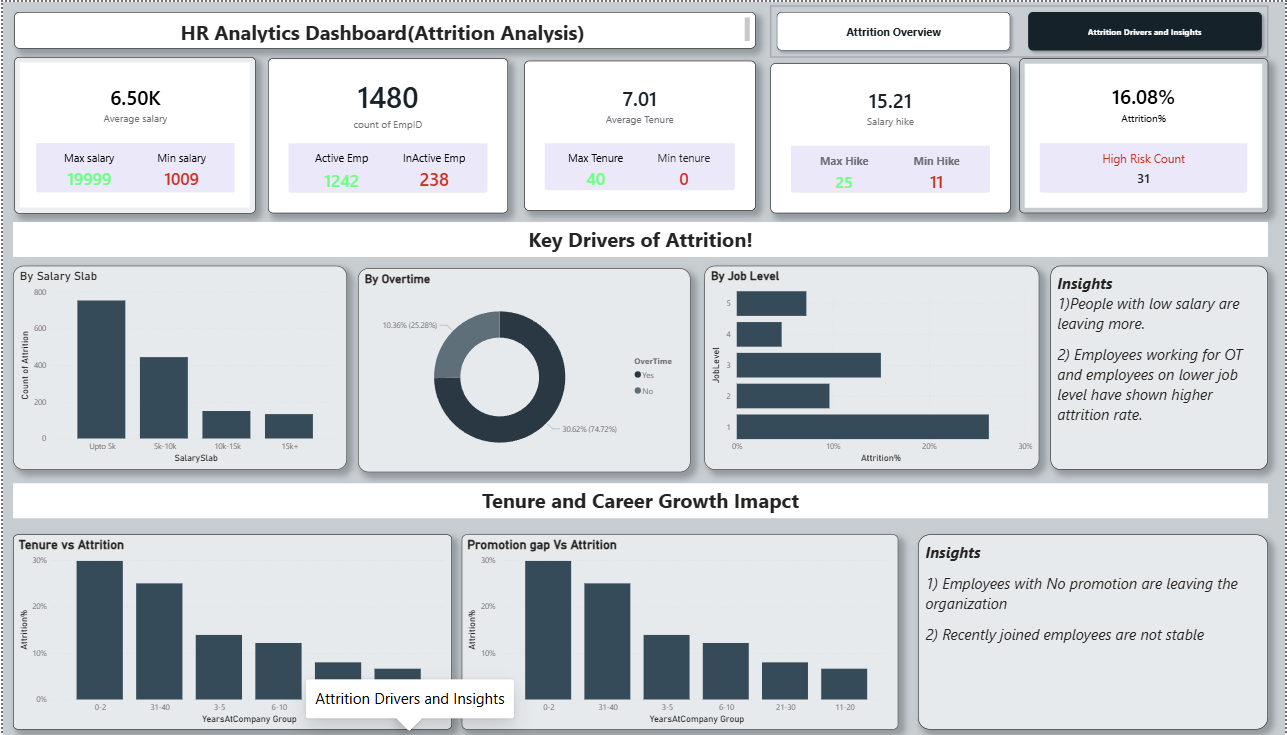

The page's visual inventory and layout, read from the dashboard file:
{"tool":"powerbi","page":{"name":"Attrition Drivers and Insights","canvas":[2050,1180],"ordinal":1},"visuals":[{"type":"cardVisual","fields":{"Data":["CountNonNull(HR_Analytics.EmpID)"]},"box":[424,90,384,248],"z":0},{"type":"cardVisual","fields":{"Data":["Avg(HR_Analytics.MonthlyIncome)"]},"box":[18,88,386,250],"z":1000},{"type":"cardVisual","fields":{"Data":["Avg(HR_Analytics.YearsAtCompany)"]},"box":[834,94,370,240],"z":2000},{"type":"cardVisual","fields":{"Data":["Avg(HR_Analytics.PercentSalaryHike)"]},"box":[1228,98,384,240],"z":3000},{"type":"cardVisual","fields":{"Data":["_Measure.Attrition%"]},"box":[1626,90,398,248],"z":4000},{"type":"textbox","box":[16,352,2008,56],"z":5000},{"type":"columnChart","title":"By Salary Slab","fields":{"Y":["CountNonNull(HR_Analytics.Attrition)"],"Category":["HR_Analytics.SalarySlab"]},"box":[16,422,534,326],"z":6000},{"type":"donutChart","title":"By Overtime","fields":{"Y":["_Measure.Attrition%"],"Category":["HR_Analytics.OverTime"]},"box":[568,426,532,326],"z":7000},{"type":"barChart","title":"By Job Level","fields":{"Y":["_Measure.Attrition%"],"Category":["HR_Analytics.JobLevel"]},"box":[1122,422,536,326],"z":8000},{"type":"textbox","box":[16,770,2008,56],"z":9000},{"type":"columnChart","title":"Tenure vs Attrition","fields":{"Category":["HR_Analytics.YearsAtCompany Group"],"Y":["_Measure.Attrition%"]},"box":[16,852,702,312],"z":10000},{"type":"textbox","box":[18,16,1186,58],"z":11000},{"type":"columnChart","title":"Promotion gap Vs Attrition","fields":{"Y":["_Measure.Attrition%"],"Category":["HR_Analytics.YearsAtCompany Group"]},"box":[734,852,698,312],"z":12000},{"type":"pageNavigator","box":[1228,6,796,82],"z":13000},{"type":"textbox","box":[1676,422,348,326],"z":14000},{"type":"textbox","box":[1464,852,560,312],"z":15000}]}

Visuals, with their boxes in screenshot pixels (x1, y1, x2, y2), scaled from the page's 2050x1180 canvas onto the 1287x735 screenshot:
cardVisual - CountNonNull(HR_Analytics.EmpID): [266,56,507,211]
cardVisual - Avg(HR_Analytics.MonthlyIncome): [11,55,254,211]
cardVisual - Avg(HR_Analytics.YearsAtCompany): [524,59,756,208]
cardVisual - Avg(HR_Analytics.PercentSalaryHike): [771,61,1012,211]
cardVisual - _Measure.Attrition%: [1021,56,1271,211]
textbox: [10,219,1271,254]
"By Salary Slab" columnChart: [10,263,345,466]
"By Overtime" donutChart: [357,265,691,468]
"By Job Level" barChart: [704,263,1041,466]
textbox: [10,480,1271,514]
"Tenure vs Attrition" columnChart: [10,531,451,725]
textbox: [11,10,756,46]
"Promotion gap Vs Attrition" columnChart: [461,531,899,725]
pageNavigator: [771,4,1271,55]
textbox: [1052,263,1271,466]
textbox: [919,531,1271,725]
